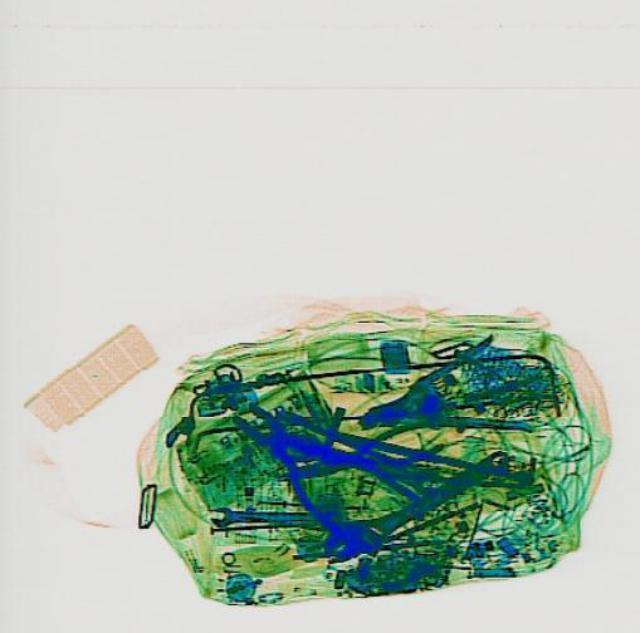Pliers: (208, 373, 426, 559), (342, 330, 530, 465)
Wrench: (316, 436, 518, 573), (210, 505, 338, 524)
